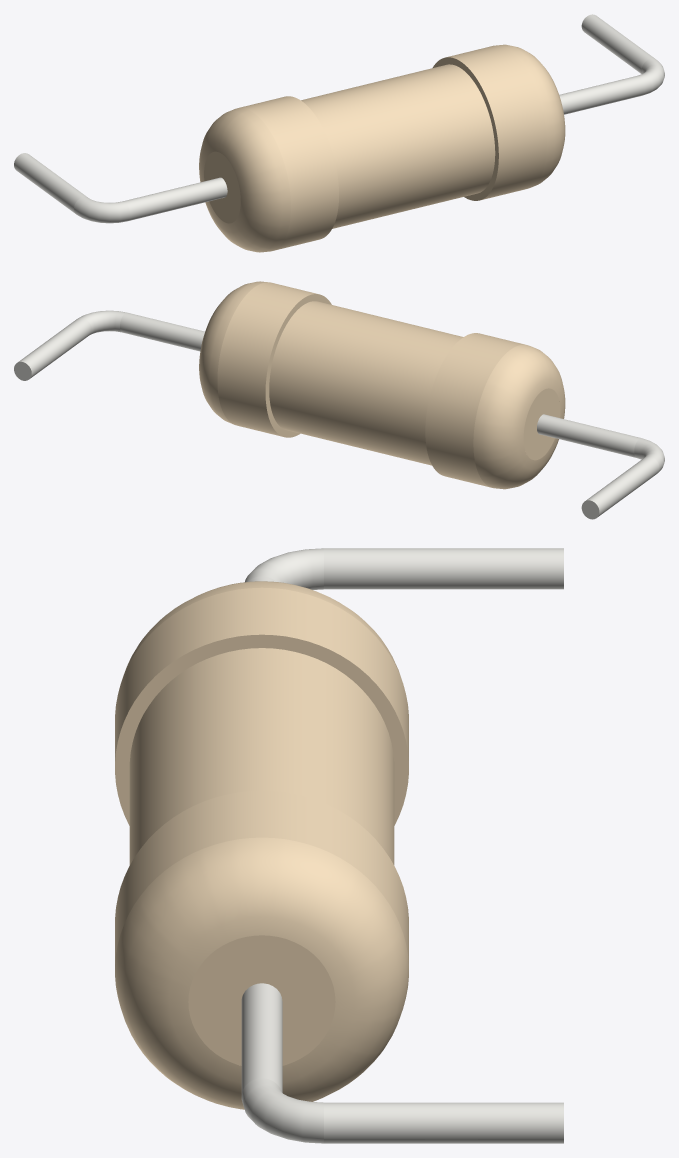
File: R_Axial_DIN0614_L14.3mm_D5.7mm_P25.40mm_Horizontal.glb
3 views of the same model, one above another, from view 1: azimuth 30°, elevation 25°; view 2: azimuth 150°, elevation 25°; view 3: azimuth 270°, elevation 25° (orthographic). The views are drawn at different scales.
Visible parts, largest first — view 1: Shape_IndexedFaceSet.004, Shape_IndexedFaceSet.001, Shape_IndexedFaceSet.008, Shape_IndexedFaceSet, Shape_IndexedFaceSet.010, Shape_IndexedFaceSet.005, Shape_IndexedFaceSet.013, Shape_IndexedFaceSet.009, Shape_IndexedFaceSet.015, Shape_IndexedFaceSet.003, Shape_IndexedFaceSet.007, Shape_IndexedFaceSet.006 (+1 smaller); view 2: Shape_IndexedFaceSet.004, Shape_IndexedFaceSet.001, Shape_IndexedFaceSet, Shape_IndexedFaceSet.008, Shape_IndexedFaceSet.010, Shape_IndexedFaceSet.005, Shape_IndexedFaceSet.013, Shape_IndexedFaceSet.009, Shape_IndexedFaceSet.015, Shape_IndexedFaceSet.003, Shape_IndexedFaceSet.006, Shape_IndexedFaceSet.014 (+1 smaller); view 3: Shape_IndexedFaceSet.010, Shape_IndexedFaceSet.004, Shape_IndexedFaceSet, Shape_IndexedFaceSet.008, Shape_IndexedFaceSet.012, Shape_IndexedFaceSet.009, Shape_IndexedFaceSet.015, Shape_IndexedFaceSet.002, Shape_IndexedFaceSet.013, Shape_IndexedFaceSet.014, Shape_IndexedFaceSet.007, Shape_IndexedFaceSet.001.
Part boxes in pixels (bbox=[...]): Shape_IndexedFaceSet.004: bbox=[301, 64, 495, 228]; Shape_IndexedFaceSet.001: bbox=[199, 108, 290, 252]; Shape_IndexedFaceSet.008: bbox=[447, 45, 546, 199]; Shape_IndexedFaceSet: bbox=[239, 96, 338, 250]; Shape_IndexedFaceSet.010: bbox=[496, 44, 565, 187]; Shape_IndexedFaceSet.005: bbox=[123, 177, 227, 220]; Shape_IndexedFaceSet.013: bbox=[559, 76, 644, 114]; Shape_IndexedFaceSet.009: bbox=[14, 153, 87, 213]; Shape_IndexedFaceSet.015: bbox=[581, 14, 654, 73]; Shape_IndexedFaceSet.003: bbox=[204, 151, 240, 223]; Shape_IndexedFaceSet.007: bbox=[74, 197, 130, 223]; Shape_IndexedFaceSet.006: bbox=[432, 57, 498, 200]; Shape_IndexedFaceSet.004: bbox=[269, 301, 463, 465]; Shape_IndexedFaceSet.001: bbox=[473, 344, 565, 489]; Shape_IndexedFaceSet: bbox=[425, 333, 525, 487]; Shape_IndexedFaceSet.008: bbox=[217, 282, 318, 436]; Shape_IndexedFaceSet.010: bbox=[199, 281, 267, 424]; Shape_IndexedFaceSet.005: bbox=[537, 414, 640, 457]; Shape_IndexedFaceSet.013: bbox=[120, 312, 204, 351]; Shape_IndexedFaceSet.009: bbox=[586, 456, 659, 517]; Shape_IndexedFaceSet.015: bbox=[18, 318, 91, 378]; Shape_IndexedFaceSet.003: bbox=[523, 388, 560, 460]; Shape_IndexedFaceSet.006: bbox=[265, 294, 331, 437]; Shape_IndexedFaceSet.014: bbox=[78, 310, 126, 334]; Shape_IndexedFaceSet.010: bbox=[115, 837, 408, 1109]; Shape_IndexedFaceSet.004: bbox=[129, 648, 394, 864]; Shape_IndexedFaceSet: bbox=[115, 587, 408, 760]; Shape_IndexedFaceSet.008: bbox=[115, 790, 408, 963]; Shape_IndexedFaceSet.012: bbox=[188, 935, 335, 1065]; Shape_IndexedFaceSet.009: bbox=[324, 548, 563, 589]; Shape_IndexedFaceSet.015: bbox=[324, 1102, 563, 1143]; Shape_IndexedFaceSet.002: bbox=[115, 634, 408, 825]; Shape_IndexedFaceSet.013: bbox=[241, 983, 282, 1093]; Shape_IndexedFaceSet.014: bbox=[241, 1078, 323, 1143]; Shape_IndexedFaceSet.007: bbox=[245, 548, 323, 589]; Shape_IndexedFaceSet.001: bbox=[122, 581, 401, 678].
Size of the model in its own units: 10.31 by 2.24 by 3.42.
